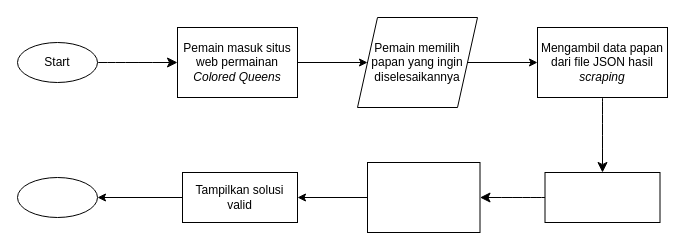
The diagram is 685 pixels wide and 250 high, and some of its shapes have lost their labels. The centre of each missing label's shape, as x and y in pixels:
Berikan solusi menggunakan algoritma B acktracking: the point at 423,197
End: the point at 57,197
Tampilkan papan: the point at 602,197
